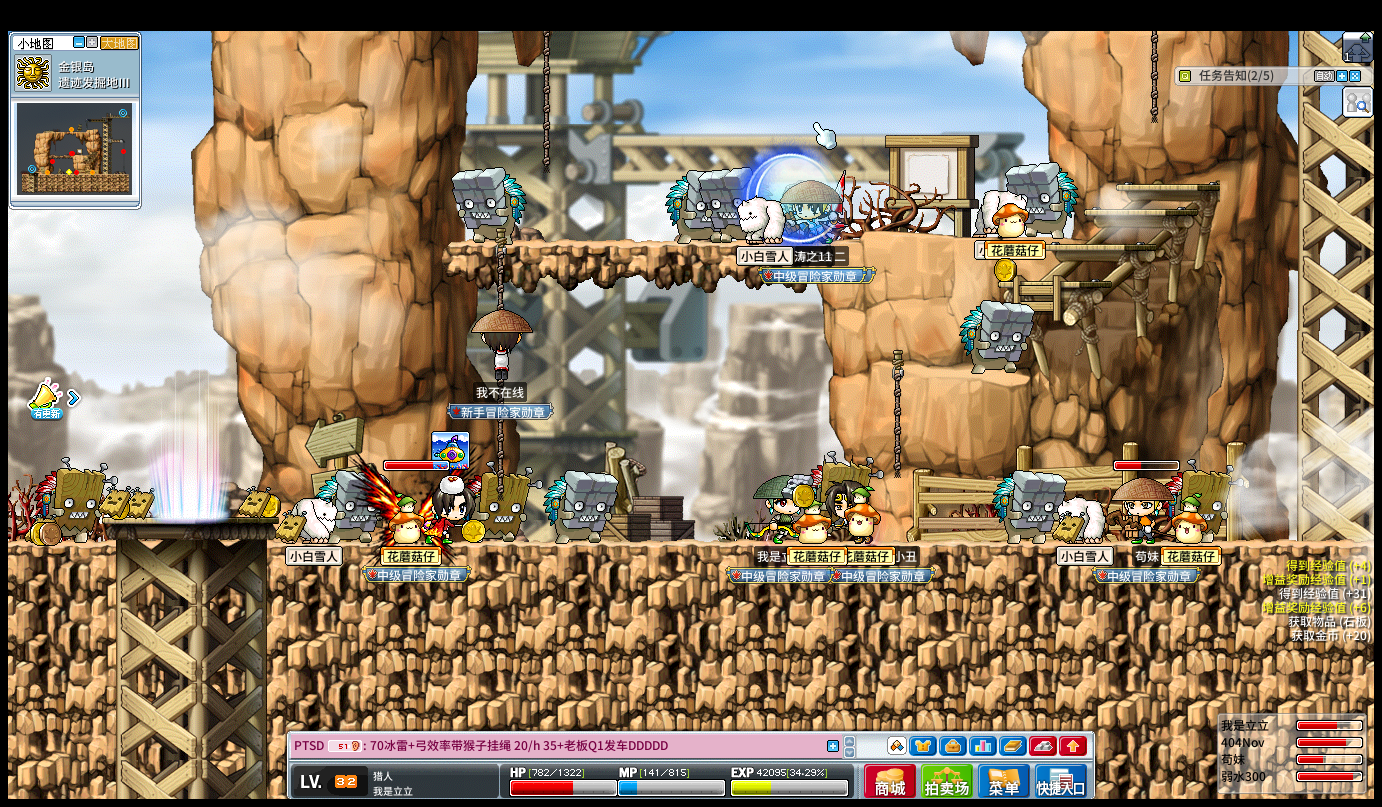floor: (442, 238, 823, 249), (916, 369, 1032, 387), (945, 239, 1153, 248), (104, 517, 277, 525), (108, 515, 277, 523), (936, 233, 1084, 241), (7, 541, 114, 551), (1046, 242, 1154, 250), (988, 279, 1110, 286), (1084, 207, 1193, 214), (1117, 184, 1221, 191)
monster: (35, 459, 112, 542), (664, 166, 740, 244), (450, 167, 526, 243), (471, 463, 541, 543), (958, 300, 1034, 373), (545, 470, 618, 544), (992, 471, 1064, 543), (1192, 462, 1244, 541), (1027, 161, 1079, 238)
rope: (889, 350, 903, 477), (542, 30, 551, 177), (541, 31, 550, 175), (492, 233, 507, 312), (1148, 29, 1157, 120)
